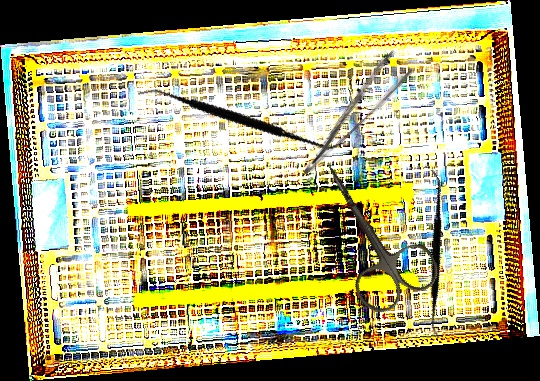Dressing Forceps: (285, 49, 416, 177)
Iris Scissors: (292, 140, 446, 321)
Spatula Surgical: (137, 42, 347, 194), (360, 168, 510, 340)
